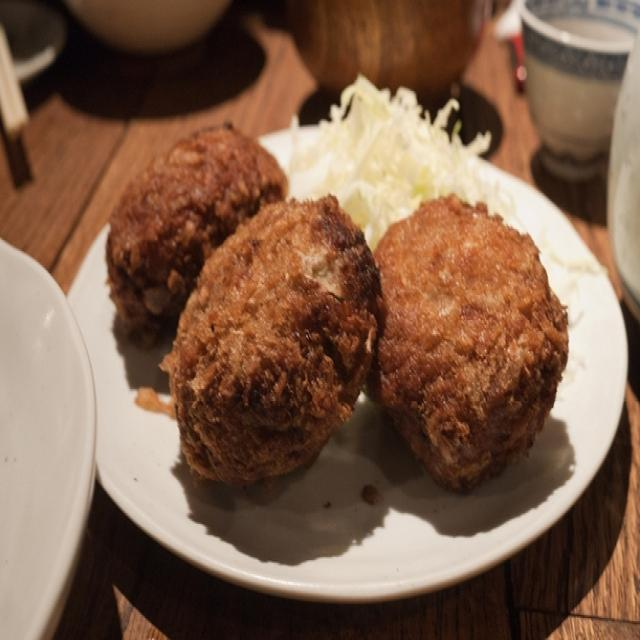炸货点心: (91, 100, 581, 520)
